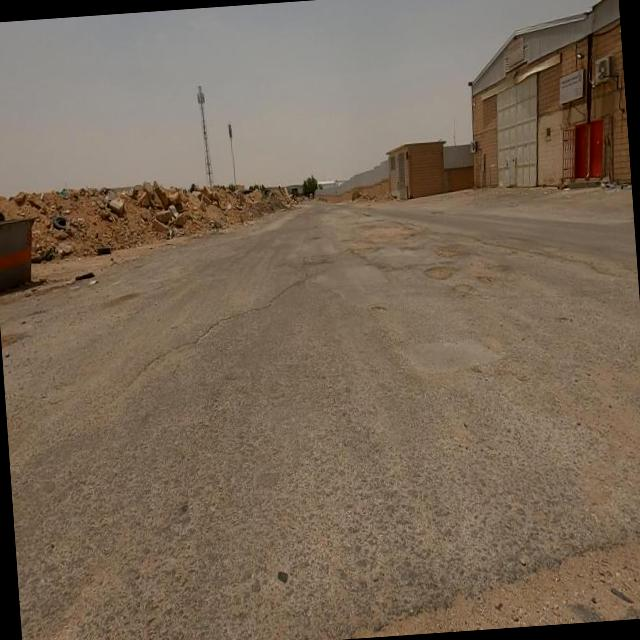debris: (23, 172, 105, 272)
